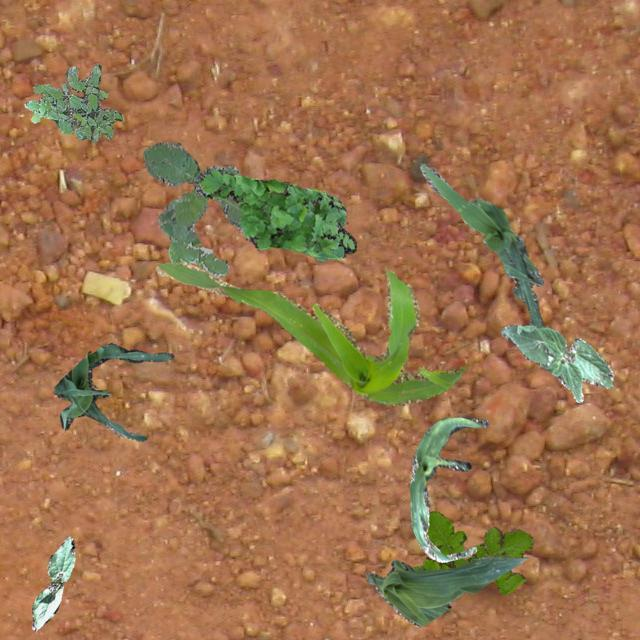crop: (154, 262, 466, 404), (420, 162, 542, 326), (52, 342, 172, 440), (408, 416, 488, 562), (364, 556, 526, 626), (500, 324, 612, 402), (30, 534, 74, 630)
weed: (194, 168, 356, 260), (142, 140, 244, 276), (412, 509, 534, 594), (23, 64, 122, 142)
